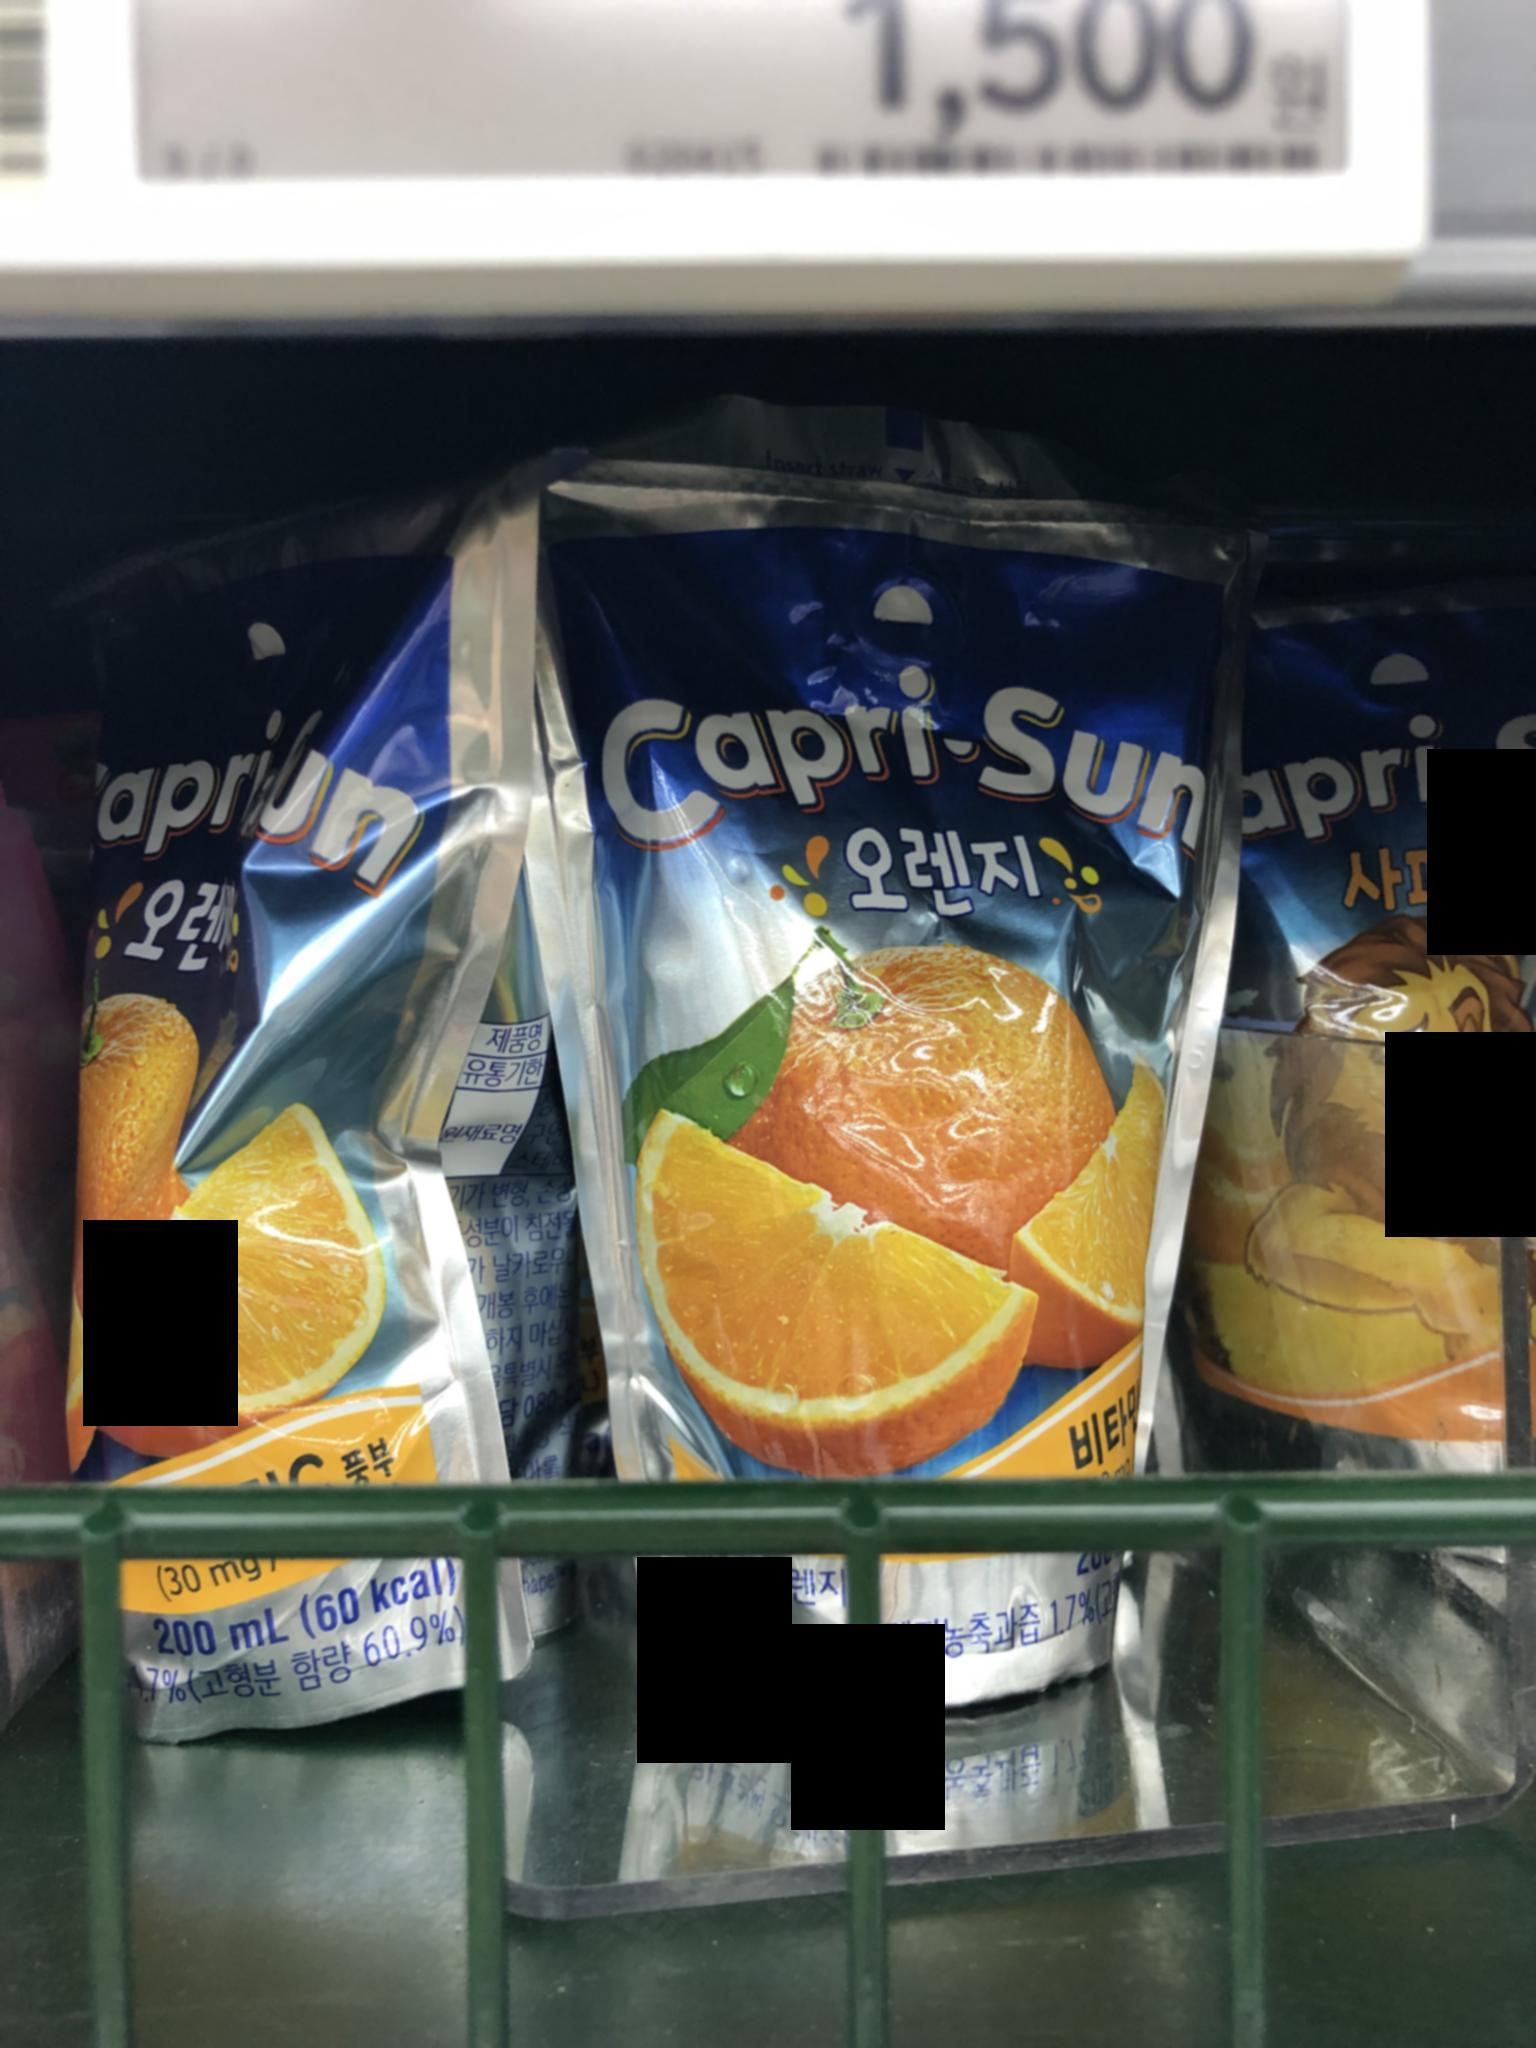cafrisun: (444, 456, 1205, 1745)
